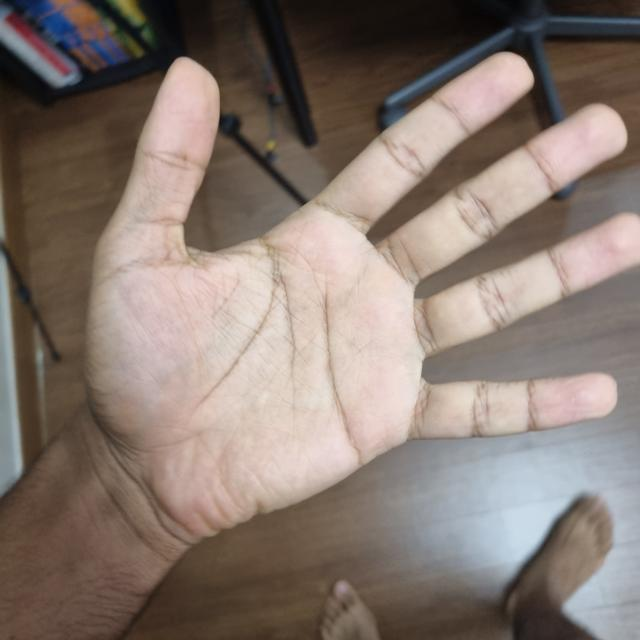Paper: (95, 69, 415, 533)
